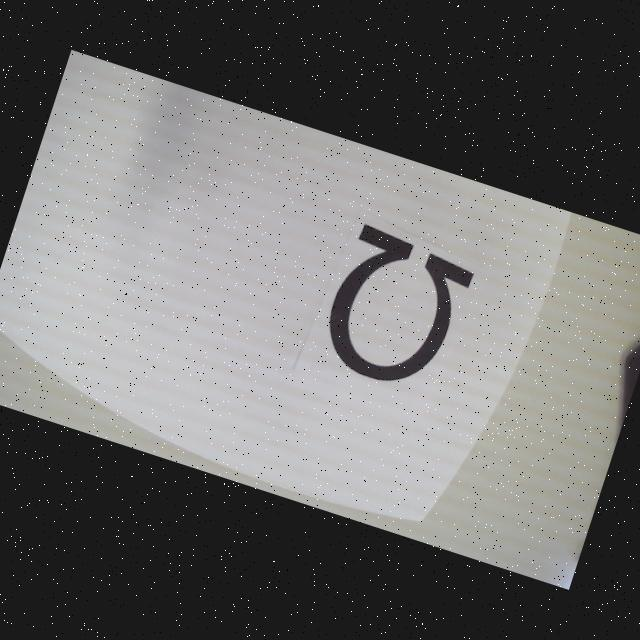OMEGA: (315, 222, 479, 398)
